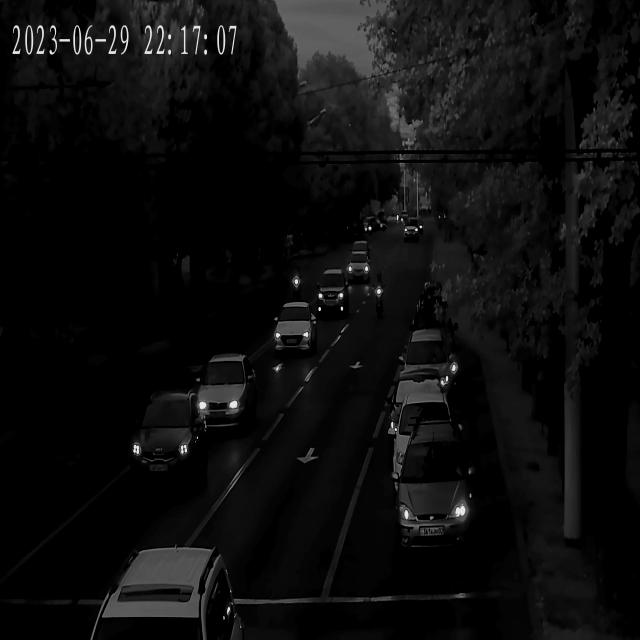Car: (89, 538, 242, 640), (399, 426, 477, 559), (129, 388, 209, 504), (392, 399, 455, 503), (388, 380, 450, 460), (197, 353, 259, 433), (409, 307, 463, 396), (401, 330, 450, 414), (273, 302, 315, 359), (319, 268, 351, 328), (349, 252, 370, 279), (404, 218, 419, 239), (363, 215, 376, 236)
